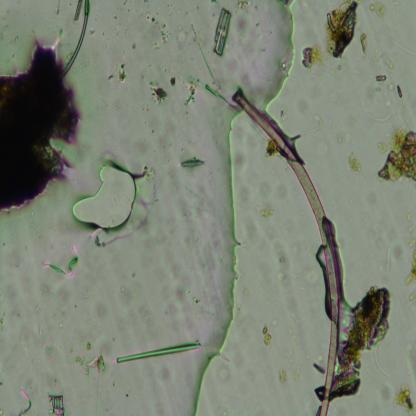Air bubble: (69, 158, 144, 232), (316, 244, 327, 270)
Background material: (0, 42, 81, 214), (335, 284, 390, 403), (161, 255, 192, 336), (323, 0, 361, 62), (376, 127, 416, 184), (91, 222, 146, 247), (72, 338, 106, 378), (134, 165, 158, 221), (403, 207, 416, 306), (272, 238, 293, 289), (370, 54, 396, 92), (393, 381, 416, 416), (183, 72, 201, 116), (301, 44, 325, 73), (157, 121, 177, 154), (52, 282, 70, 318), (149, 17, 172, 44), (107, 62, 128, 88), (146, 80, 168, 103), (16, 389, 34, 416), (404, 340, 416, 380), (345, 150, 364, 173), (90, 299, 109, 320), (43, 344, 61, 366), (174, 23, 188, 51), (178, 156, 206, 170), (368, 1, 388, 20), (32, 304, 44, 335), (258, 324, 273, 347), (233, 16, 249, 37), (118, 286, 134, 307), (360, 29, 370, 62), (10, 248, 24, 271), (274, 180, 290, 200), (378, 382, 393, 403), (288, 296, 299, 324), (275, 366, 289, 386), (218, 362, 231, 383), (288, 362, 301, 382), (158, 366, 172, 383), (235, 0, 252, 13), (396, 84, 407, 104), (256, 207, 275, 218), (38, 282, 51, 298), (314, 116, 325, 134), (312, 362, 325, 376), (0, 310, 8, 332), (99, 96, 109, 110), (141, 9, 151, 23), (336, 58, 346, 71), (50, 376, 61, 387), (122, 389, 132, 399), (392, 0, 399, 14), (169, 75, 177, 86), (88, 28, 97, 37), (57, 0, 62, 16), (153, 40, 160, 51), (210, 0, 218, 7), (131, 40, 136, 50), (57, 323, 65, 329), (142, 0, 149, 6), (29, 222, 35, 229), (123, 0, 129, 6), (131, 272, 136, 279), (126, 28, 130, 36), (0, 408, 4, 416), (259, 48, 266, 52), (95, 104, 99, 109), (255, 22, 259, 27)
Diatom: (213, 7, 233, 55), (47, 394, 66, 415)
Glass filter fibre: (63, 1, 90, 74), (115, 342, 200, 364), (190, 22, 215, 84), (43, 246, 80, 278), (204, 84, 235, 111), (375, 342, 391, 378), (391, 40, 416, 56), (367, 112, 394, 122), (389, 306, 399, 328), (74, 0, 83, 21), (386, 247, 390, 270), (408, 178, 412, 196)
Microfibre: (232, 89, 340, 416)
